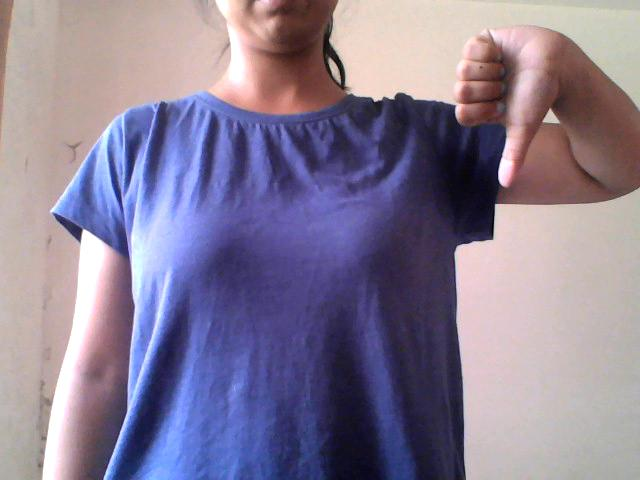thumbs-down: (405, 16, 618, 211)
